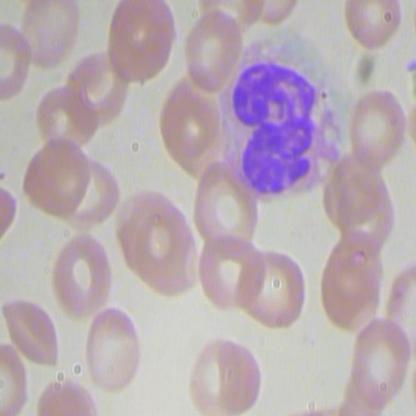RBC: (192, 160, 272, 257), (227, 237, 307, 333), (125, 207, 203, 302), (102, 1, 177, 90), (341, 87, 409, 177), (348, 315, 415, 406), (184, 1, 246, 94), (21, 136, 91, 215), (81, 308, 145, 391), (1, 287, 64, 370), (51, 231, 114, 314), (16, 1, 81, 71), (214, 335, 268, 415), (340, 1, 406, 54)
WBC: (212, 31, 350, 199)
